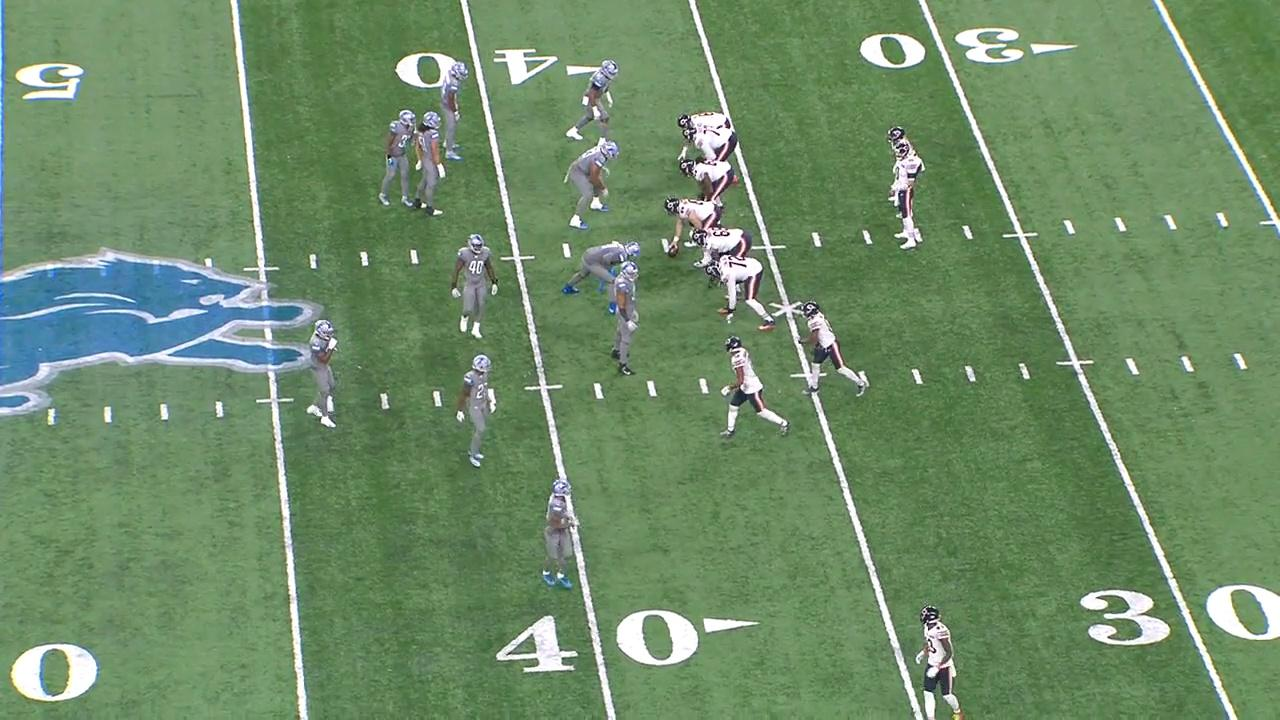player: (717, 335, 796, 441), (792, 300, 871, 400), (561, 237, 644, 318), (447, 231, 505, 341), (704, 253, 778, 334), (560, 137, 623, 231), (915, 602, 964, 720), (453, 353, 501, 468), (563, 56, 623, 147), (536, 477, 579, 592), (606, 261, 645, 382), (658, 193, 720, 269), (376, 105, 420, 210), (412, 110, 451, 220), (306, 317, 343, 431), (886, 124, 927, 220), (675, 103, 738, 163), (437, 59, 472, 162), (890, 142, 922, 254), (676, 155, 736, 204), (680, 124, 740, 161), (689, 224, 753, 257)
